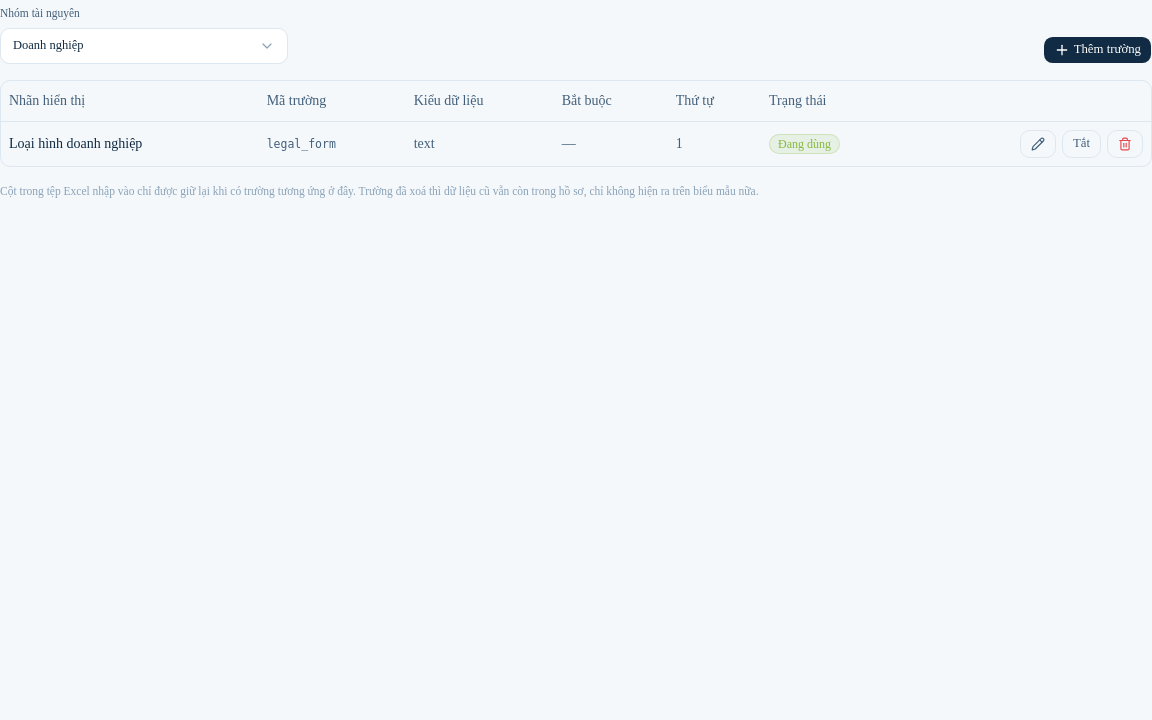
Scenario: Xoá a field: a confirm DIALOG, not a row under the table (S33) › Trash2 opens a dialog with the question; nothing is sent before Xoá
Click the button named "Xoá trường Loại hình doanh nghiệp".
click(1125, 144)  # box [1107,130,1143,158]
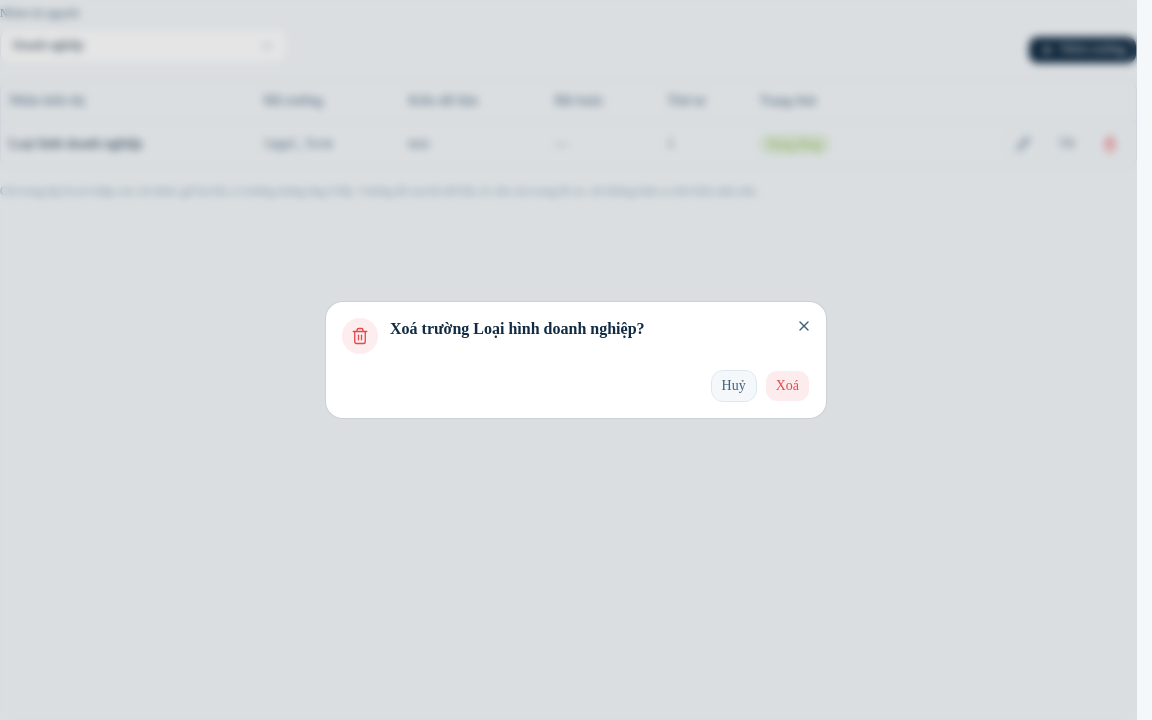
Now the dialog is shown, box [326,302,826,418]
Now the dialog shows "Xoá trường Loại hình doanh nghiệp?", box [390,320,644,337]
